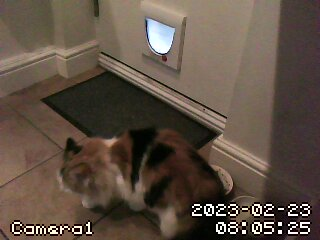clara: (52, 131, 229, 229)
